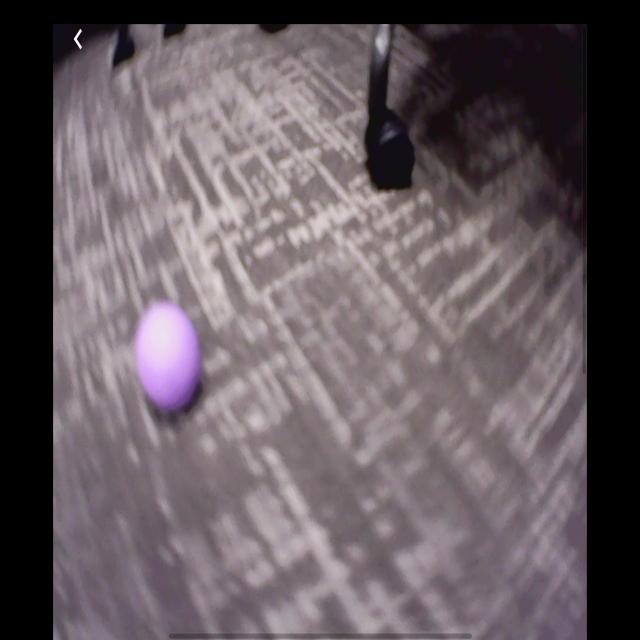ball: (134, 299, 203, 415)
